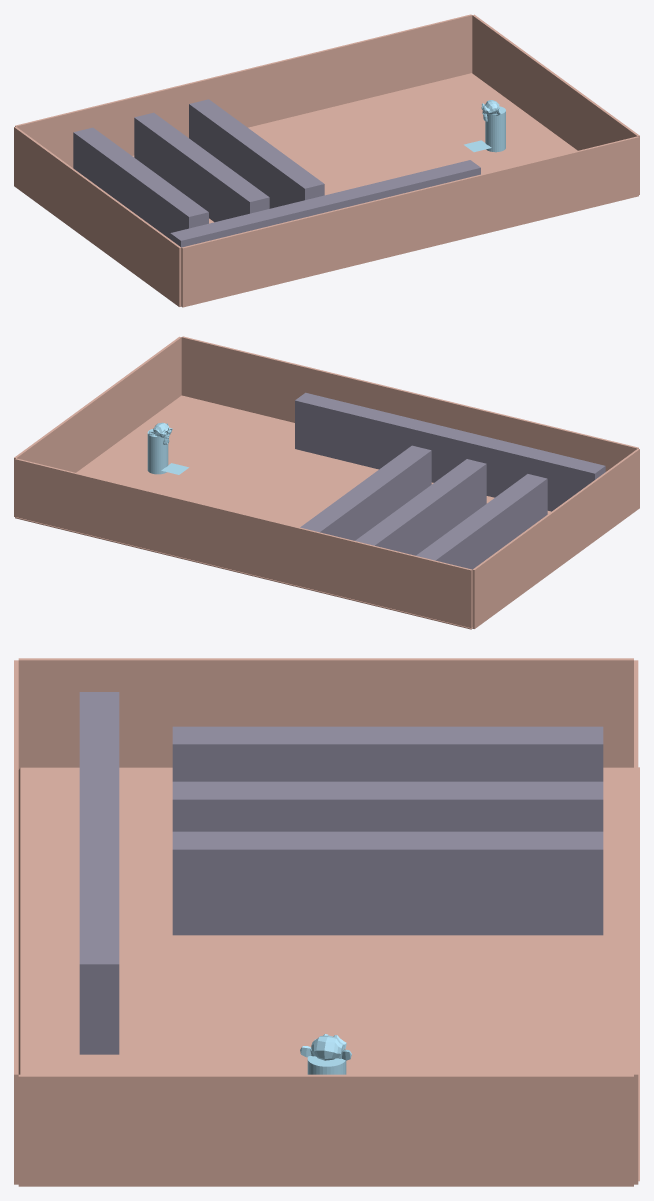
The picture shows the model from 3 angles, top to bottom: view 1: azimuth 30°, elevation 25°; view 2: azimuth 150°, elevation 25°; view 3: azimuth 270°, elevation 25°; orthographic projection. The views are drawn at different scales.
Visible parts, largest first — view 1: Plane, Walls, Agent; view 2: Plane, Walls, Agent; view 3: Plane, Walls, Agent.
Boxes of the visible parts, x1,y1,x2,y2 form: Plane: (14,14,639,307); Walls: (73,99,480,247); Agent: (464,100,505,152); Plane: (14,336,639,629); Walls: (295,392,605,569); Agent: (147,422,188,474); Plane: (14,658,639,1186); Walls: (79,692,603,1054); Agent: (300,1034,351,1074).
Size of what is drawn, in the model's own units: 50.98 by 6.25 by 32.25.
